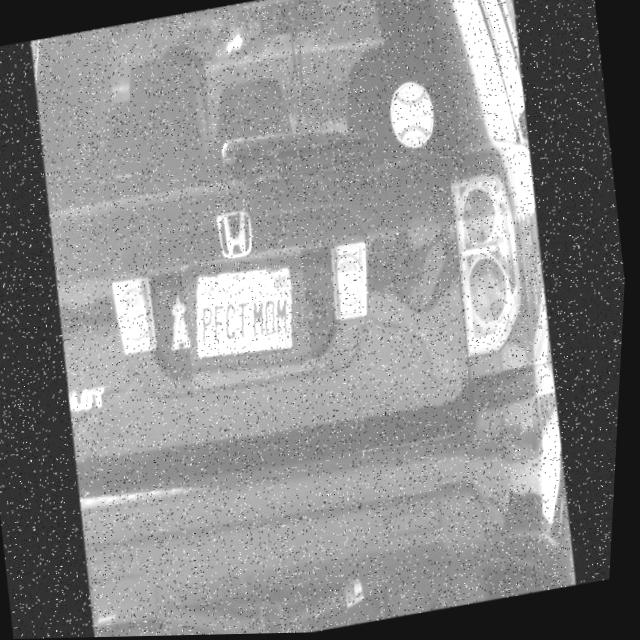LicensePlate: (179, 247, 323, 392)
